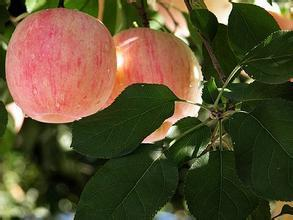apple: (4, 4, 127, 121), (113, 28, 202, 144)
